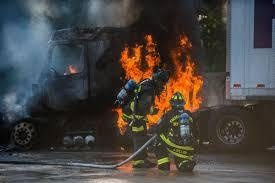fire: (114, 30, 208, 128)
